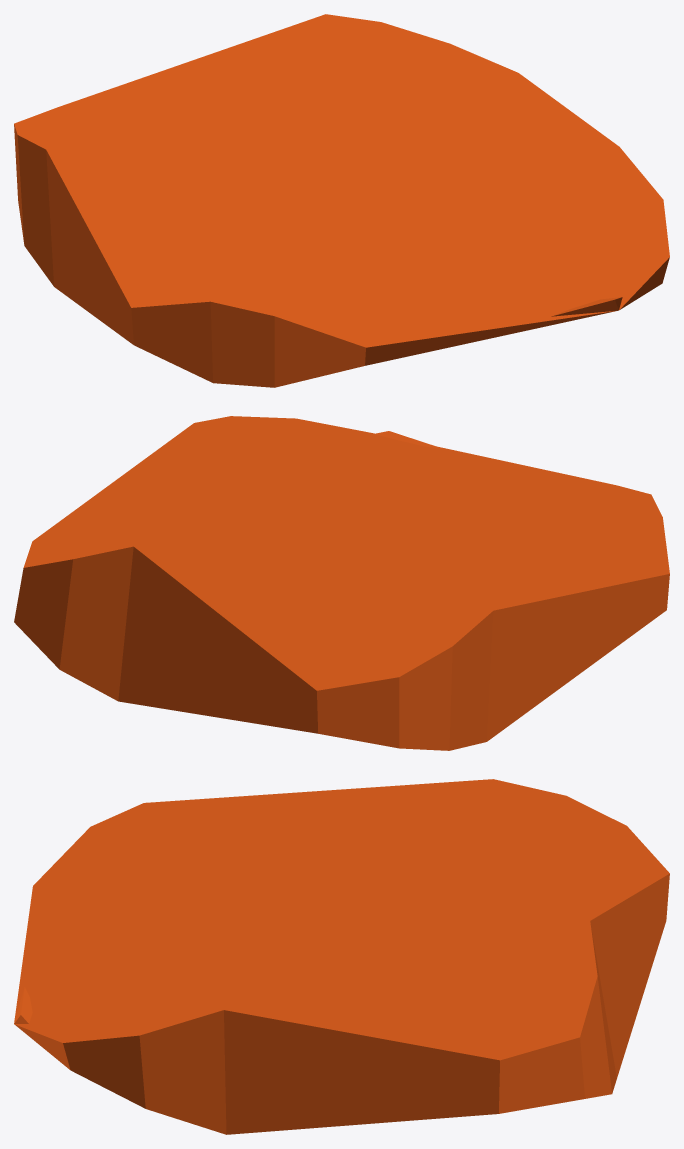
The model's file is stone3.fbx.
The picture shows the model from 3 angles, top to bottom: view 1: azimuth 30°, elevation 25°; view 2: azimuth 150°, elevation 25°; view 3: azimuth 270°, elevation 25°; orthographic projection. The views are drawn at different scales.
Visible parts, largest first — view 1: Plane; view 2: Plane; view 3: Plane.
Boxes of the visible parts, x1,y1,x2,y2 form: Plane: (14,14,669,387); Plane: (14,416,669,750); Plane: (14,779,669,1134).
Size of the model in its own units: 165 by 48.07 by 174.
